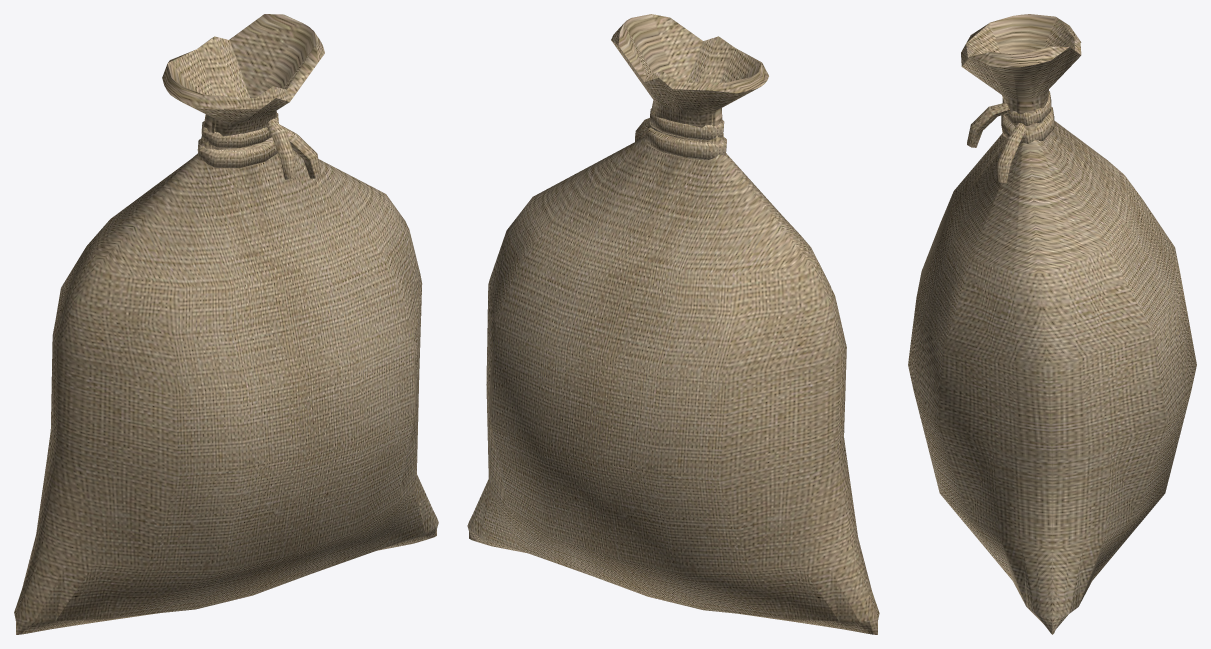
File: sack01.fbx
3 renders of one model, left to right at view 1: azimuth 30°, elevation 25°; view 2: azimuth 150°, elevation 25°; view 3: azimuth 270°, elevation 25°, orthographic. The views are drawn at different scales.
Parts seen in each view (by area): view 1: Mesh Object; view 2: Mesh Object; view 3: Mesh Object.
Part boxes in pixels (bbox=[...]): Mesh Object: bbox=[14, 14, 438, 634]; Mesh Object: bbox=[467, 14, 879, 634]; Mesh Object: bbox=[908, 14, 1196, 634].
Bounding box in the file's own units: 0.8894 × 1.14 × 0.5702.
